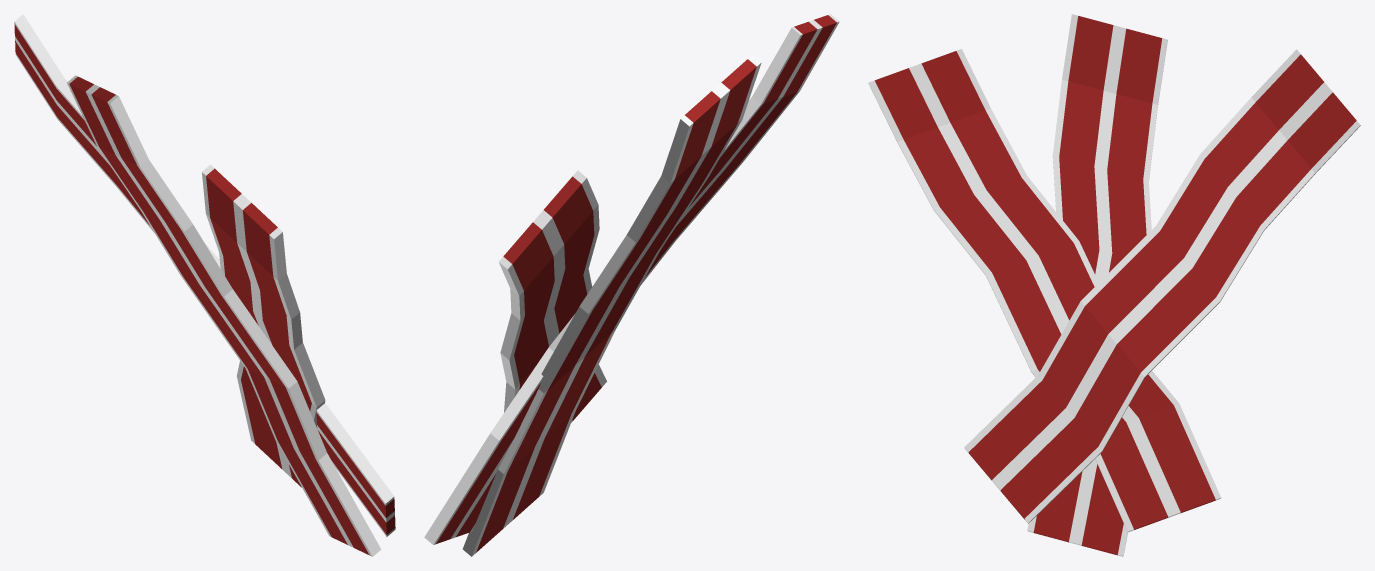
Rendered from bacon.fbx.
3 views of the same model, side by side, from view 1: azimuth 30°, elevation 25°; view 2: azimuth 150°, elevation 25°; view 3: azimuth 270°, elevation 25° (orthographic). The views are drawn at different scales.
Parts seen in each view (by area): view 1: bacon; view 2: bacon; view 3: bacon.
Part boxes in pixels (x1=…): bacon: x1=14, y1=14, x2=395, y2=556; bacon: x1=424, y1=14, x2=839, y2=556; bacon: x1=868, y1=14, x2=1360, y2=556.
Size of the model in its own units: 56.1 by 108 by 108.
